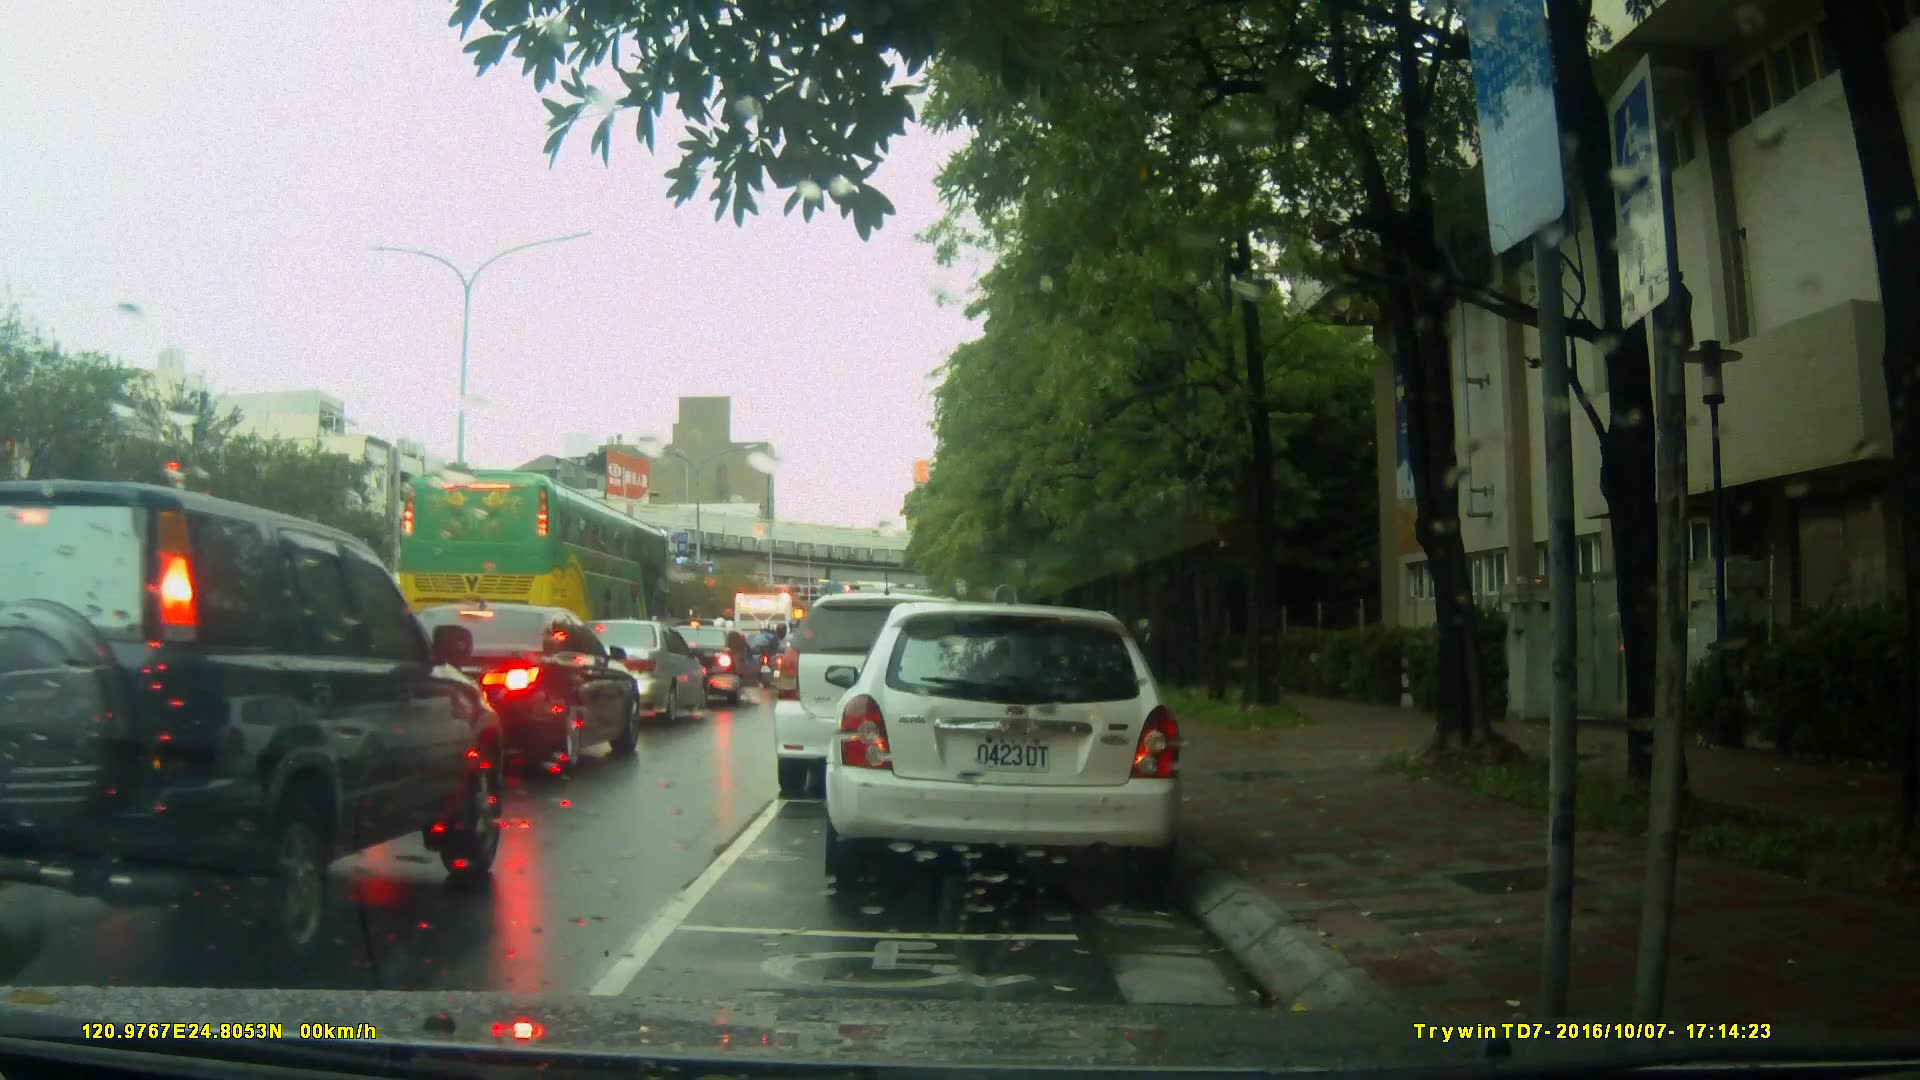rider: (782, 619, 806, 700)
vehicle: (1, 476, 513, 968), (831, 592, 1196, 897), (389, 468, 675, 659), (364, 603, 646, 778), (776, 597, 999, 801), (554, 618, 710, 723), (661, 624, 765, 711)
